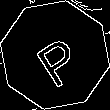P_NW: (26, 24, 84, 86)
